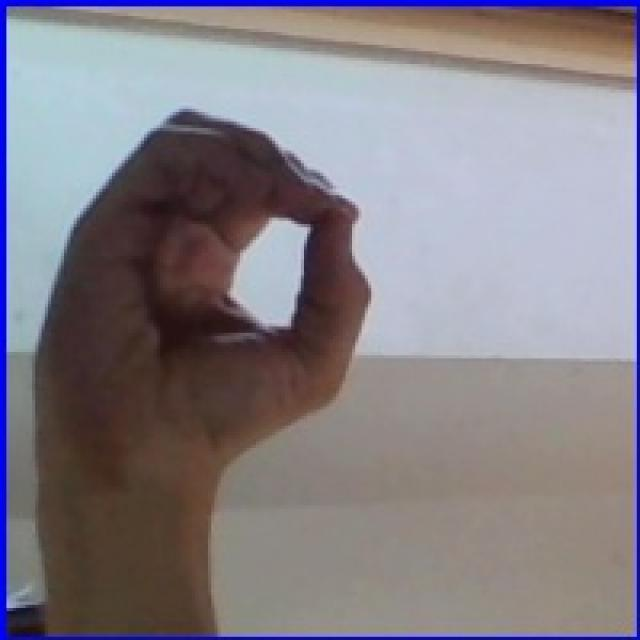Letra-O: (0, 93, 406, 496)
